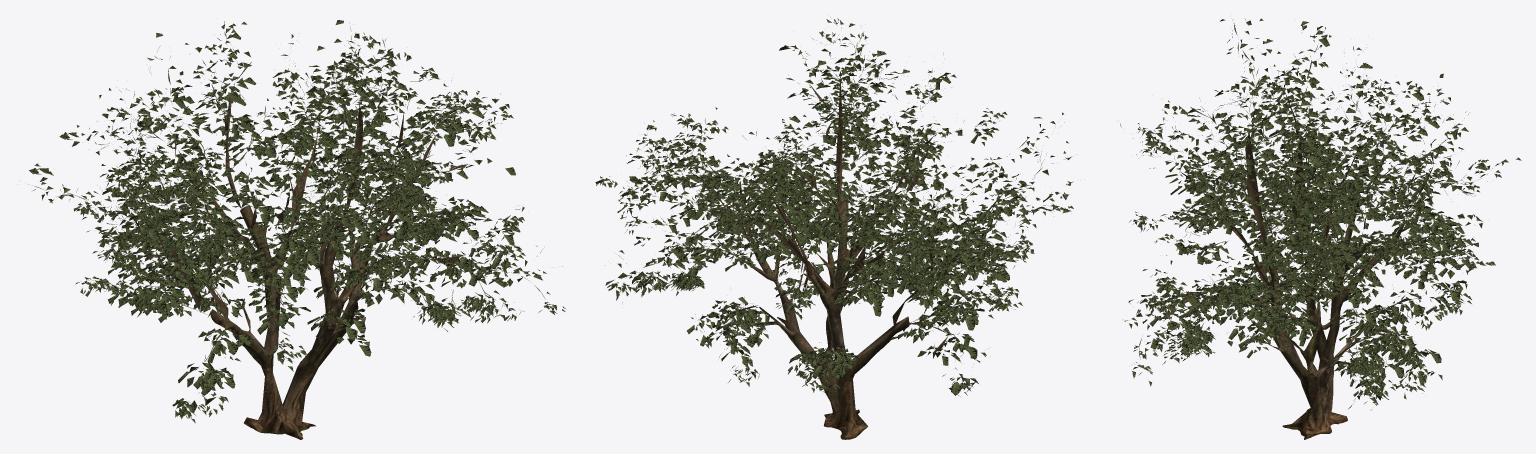
The model's file is tree_broadleaf.glb.
3 renders of one model, left to right at view 1: azimuth 30°, elevation 25°; view 2: azimuth 150°, elevation 25°; view 3: azimuth 270°, elevation 25°, orthographic. The views are drawn at different scales.
Visible parts, largest first — view 1: jacaranda_tree_LOD0; view 2: jacaranda_tree_LOD0; view 3: jacaranda_tree_LOD0.
Boxes of the visible parts, <box> form: jacaranda_tree_LOD0: <box>29,20,565,439</box>; jacaranda_tree_LOD0: <box>595,18,1076,439</box>; jacaranda_tree_LOD0: <box>1120,18,1521,439</box>.
Size of the model in its own units: 23.87 by 19.41 by 18.81.
Materials: 3 (3 with a texture image).
